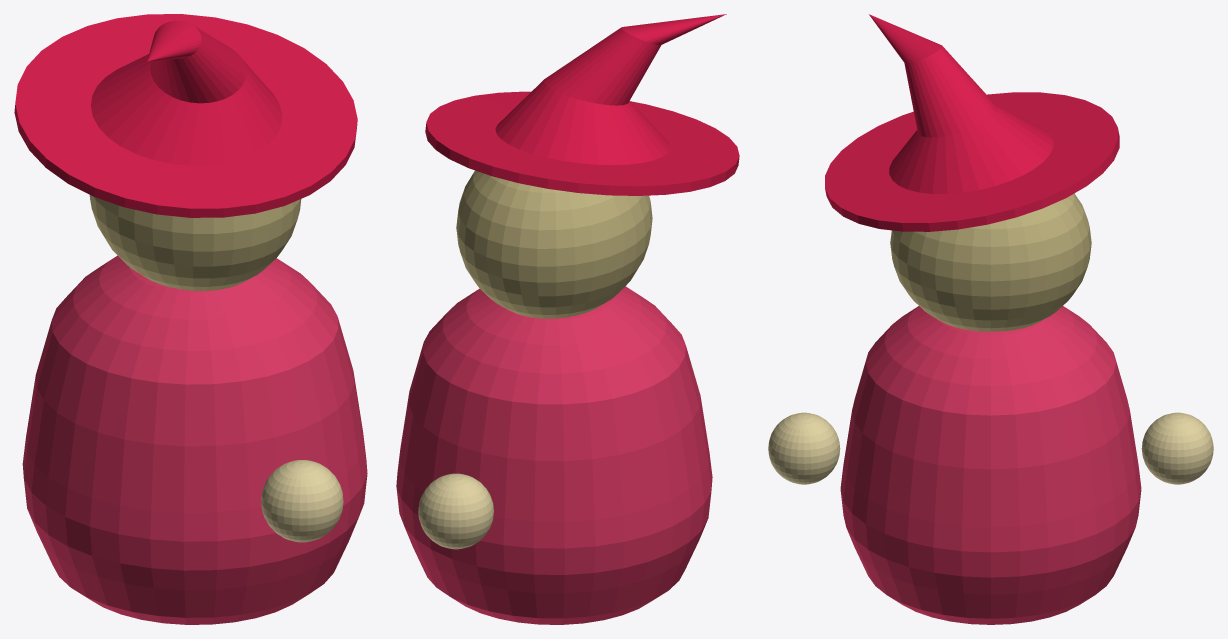
The model's file is character2.fbx.
3 views of the same model, side by side, from view 1: azimuth 30°, elevation 25°; view 2: azimuth 150°, elevation 25°; view 3: azimuth 270°, elevation 25° (orthographic). The views are drawn at different scales.
Parts seen in each view (by area): view 1: character2_body, character2_hat, character2_head, character2_hand; view 2: character2_body, character2_hat, character2_head, character2_hand; view 3: character2_body, character2_hat, character2_head, character2_hand.
Part boxes in pixels (x1,y1,x2,y2): character2_body: (22,255,367,624); character2_hat: (14,14,357,217); character2_head: (89,195,301,290); character2_hand: (261,460,343,542); character2_body: (396,286,712,624); character2_hat: (425,14,739,195); character2_head: (456,170,652,318); character2_hand: (418,473,493,549); character2_body: (840,306,1141,624); character2_hat: (825,14,1119,231); character2_head: (890,193,1091,331); character2_hand: (768,412,1213,484).
Size of the model in its own units: 204 by 379 by 284.
